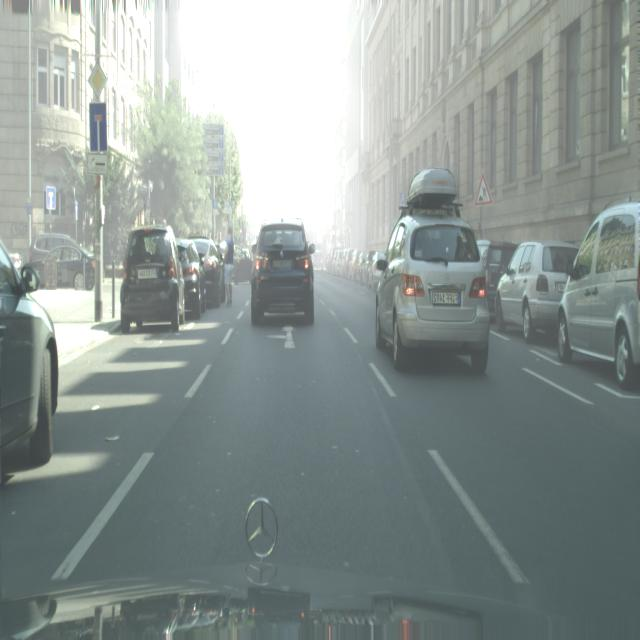person: (222, 226, 234, 307)
truck: (375, 199, 490, 376), (557, 196, 640, 388), (0, 239, 59, 482), (494, 240, 580, 341), (249, 218, 315, 327), (120, 224, 185, 334), (28, 232, 96, 290), (484, 241, 518, 318), (177, 239, 206, 319), (192, 237, 223, 306), (364, 251, 388, 290), (342, 248, 359, 279), (356, 250, 371, 285), (348, 249, 362, 281), (334, 248, 348, 276), (326, 247, 336, 272)
